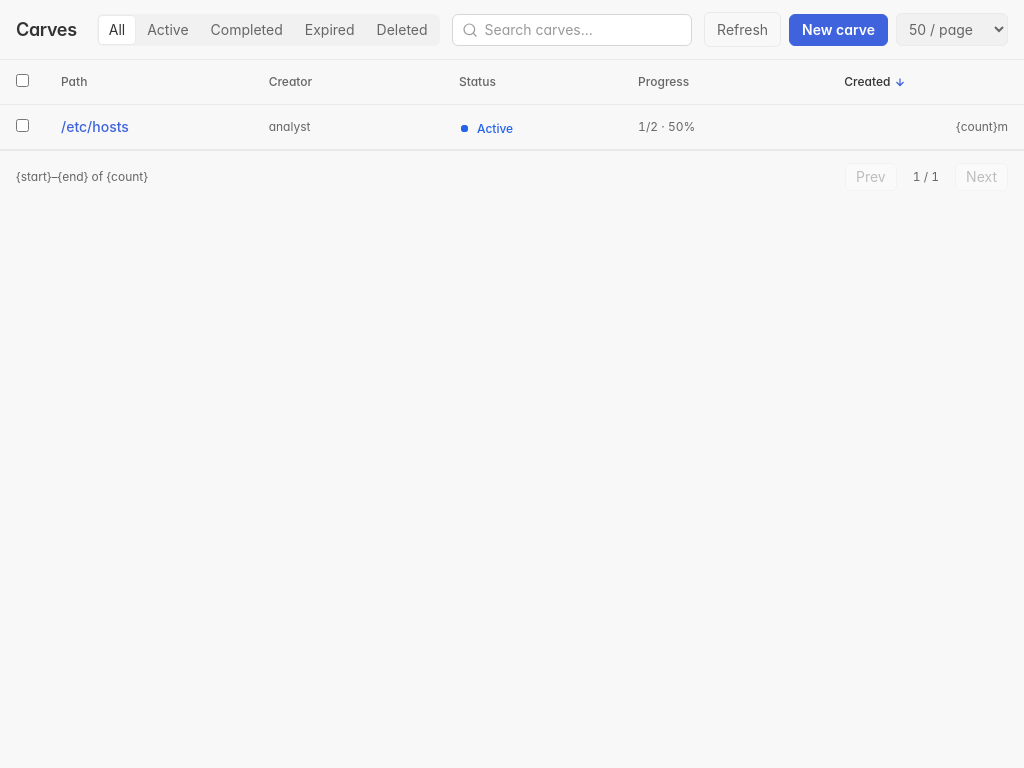
Test: CarvesListPage › shows new carve and bulk controls to an env admin
Expected: the link "New carve" is shown, [789,14,888,46]
Click the checkbox named "Select carve_abcdef": click(22, 126) [16,119,29,132]
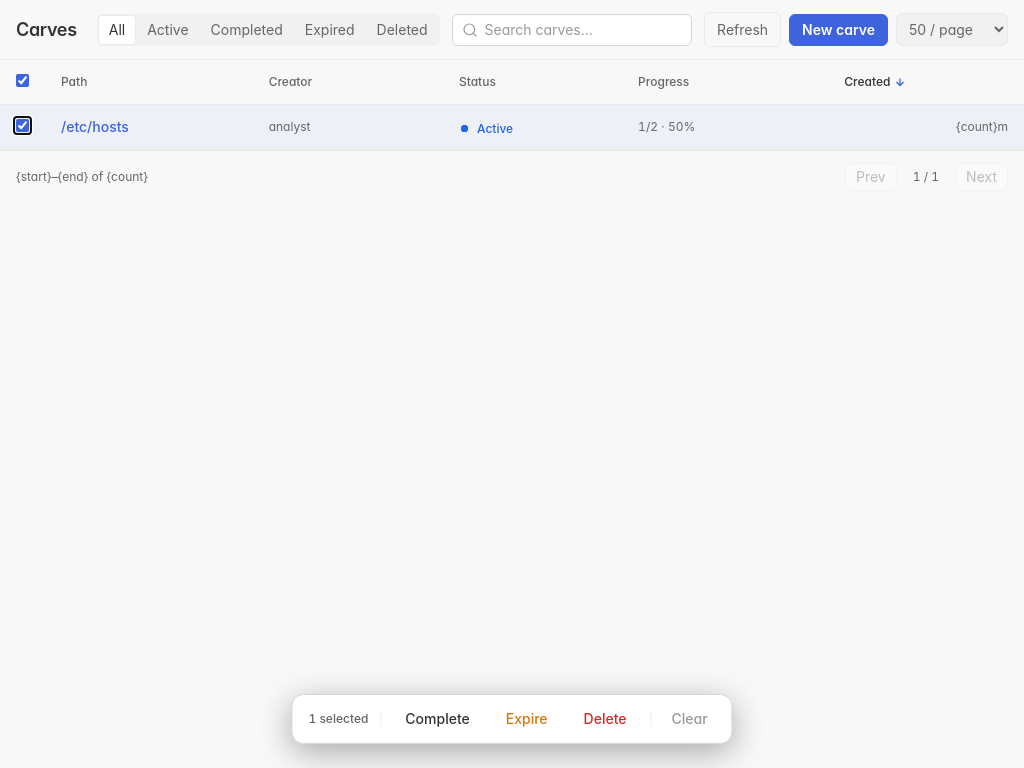
Expected: the element named "bulk actions" is shown, [291,694,733,744]
